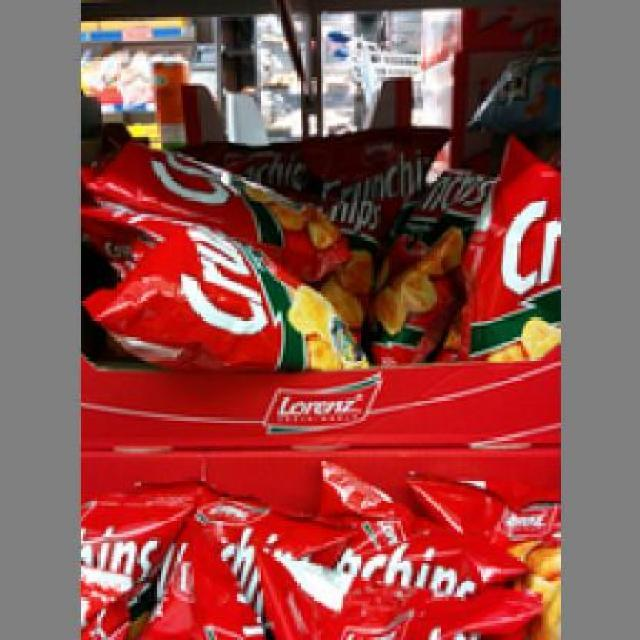Chips: (77, 203, 380, 377), (371, 166, 484, 354)
